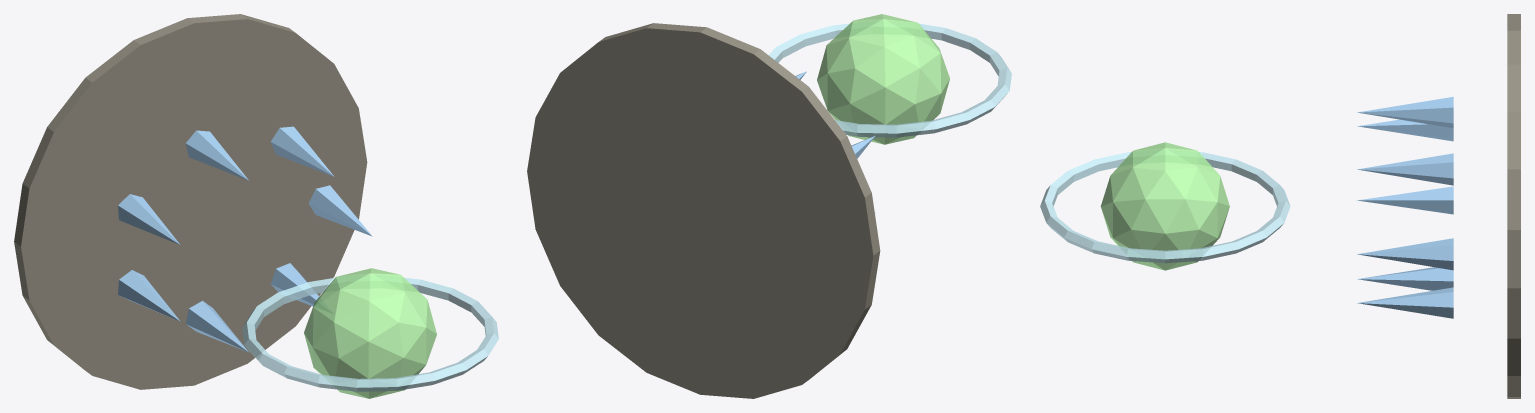
Rendered from 06_weather_terrain_nature_module.glb.
The picture shows the model from 3 angles, left to right: view 1: azimuth 30°, elevation 25°; view 2: azimuth 150°, elevation 25°; view 3: azimuth 270°, elevation 25°; orthographic projection. The views are drawn at different scales.
Visible parts, largest first — view 1: terrain_patch, sun_color_preview, weather_halo, nature_or_weather_element_2, nature_or_weather_element_1, nature_or_weather_element_0, nature_or_weather_element_3, nature_or_weather_element_5, nature_or_weather_element_4, nature_or_weather_element_6; view 2: terrain_patch, sun_color_preview, weather_halo; view 3: sun_color_preview, weather_halo, terrain_patch, nature_or_weather_element_0, nature_or_weather_element_1, nature_or_weather_element_2, nature_or_weather_element_6, nature_or_weather_element_4, nature_or_weather_element_5, nature_or_weather_element_3.
Part boxes in pixels (x1,y1,x2,y2): terrain_patch: [14, 14, 367, 389]; sun_color_preview: [304, 268, 436, 398]; weather_halo: [242, 277, 498, 391]; nature_or_weather_element_2: [185, 130, 248, 180]; nature_or_weather_element_1: [271, 126, 334, 176]; nature_or_weather_element_0: [308, 185, 372, 236]; nature_or_weather_element_3: [118, 194, 180, 244]; nature_or_weather_element_5: [185, 300, 248, 352]; nature_or_weather_element_4: [118, 270, 180, 321]; nature_or_weather_element_6: [271, 263, 319, 306]; terrain_patch: [527, 23, 880, 398]; sun_color_preview: [817, 14, 949, 144]; weather_halo: [768, 23, 1011, 137]; sun_color_preview: [1100, 142, 1229, 270]; weather_halo: [1040, 152, 1290, 263]; terrain_patch: [1507, 14, 1520, 398]; nature_or_weather_element_0: [1357, 238, 1453, 270]; nature_or_weather_element_1: [1357, 153, 1453, 185]; nature_or_weather_element_2: [1357, 96, 1453, 128]; nature_or_weather_element_6: [1357, 287, 1453, 318]; nature_or_weather_element_4: [1357, 186, 1453, 214]; nature_or_weather_element_5: [1357, 267, 1453, 290]; nature_or_weather_element_3: [1357, 119, 1453, 141].
Bounding box in the file's own units: 1.44 × 1.44 × 1.78.
